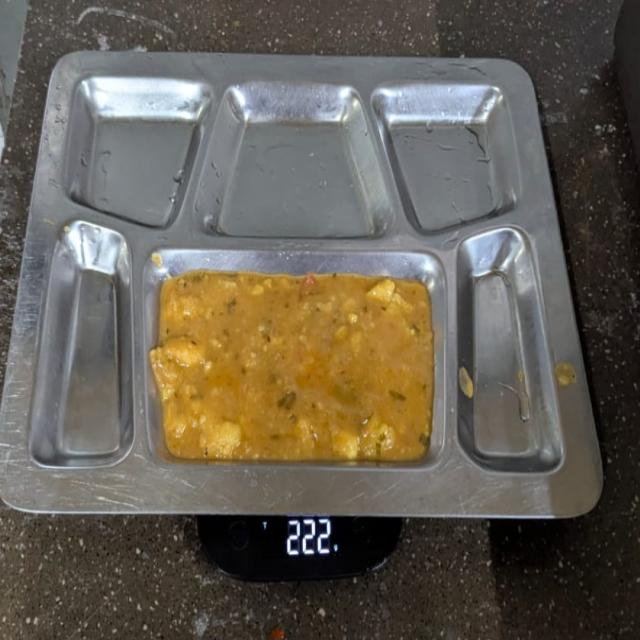Aloo Sabji: (159, 286, 433, 454)
